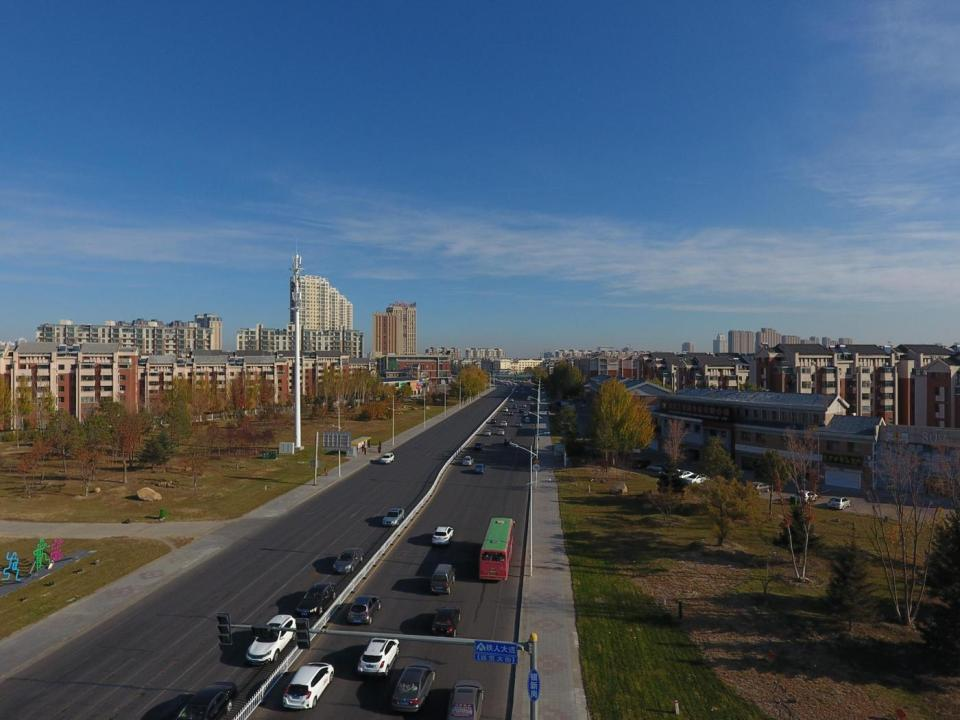bus: (480, 518, 515, 582)
car: (170, 681, 238, 720), (246, 615, 298, 665), (283, 662, 335, 709), (392, 659, 436, 710), (357, 636, 399, 678), (445, 678, 483, 720), (297, 581, 336, 618), (429, 605, 462, 638), (349, 596, 381, 625), (334, 548, 364, 574), (432, 525, 453, 547), (382, 509, 405, 526), (685, 472, 710, 487), (747, 480, 770, 496), (828, 497, 850, 510), (795, 491, 818, 503), (646, 463, 670, 474), (672, 471, 692, 484), (632, 460, 654, 468), (380, 452, 394, 463), (474, 463, 486, 474), (462, 456, 475, 465), (474, 442, 484, 450), (484, 429, 492, 436), (497, 428, 505, 434), (504, 438, 512, 444), (516, 422, 522, 427), (507, 411, 514, 415), (525, 418, 530, 423), (502, 408, 507, 412), (523, 412, 528, 416), (530, 401, 534, 405), (520, 408, 523, 413), (510, 398, 514, 401), (522, 404, 526, 407), (505, 382, 508, 385), (501, 382, 504, 385), (515, 390, 518, 393), (509, 382, 512, 384), (513, 382, 516, 384), (521, 391, 524, 393), (521, 388, 523, 390), (529, 386, 531, 388), (527, 392, 529, 394), (512, 381, 515, 382), (504, 383, 506, 384)
truck: (617, 447, 642, 464), (500, 420, 508, 426), (544, 405, 548, 410)
van: (430, 564, 454, 594), (490, 418, 497, 424), (512, 404, 516, 409), (527, 397, 530, 400), (501, 381, 503, 384)
